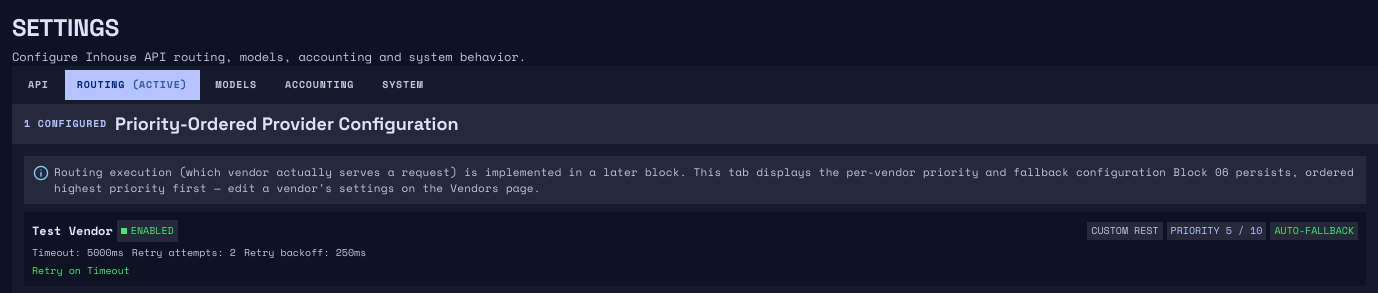
it: Settings — Models tab › displays models returned from the API
What coordinates should you click on to do the following:
click the button "Models"
I would click on:
 (236, 85)
Its box is x1=204 y1=70 x2=269 y2=100.
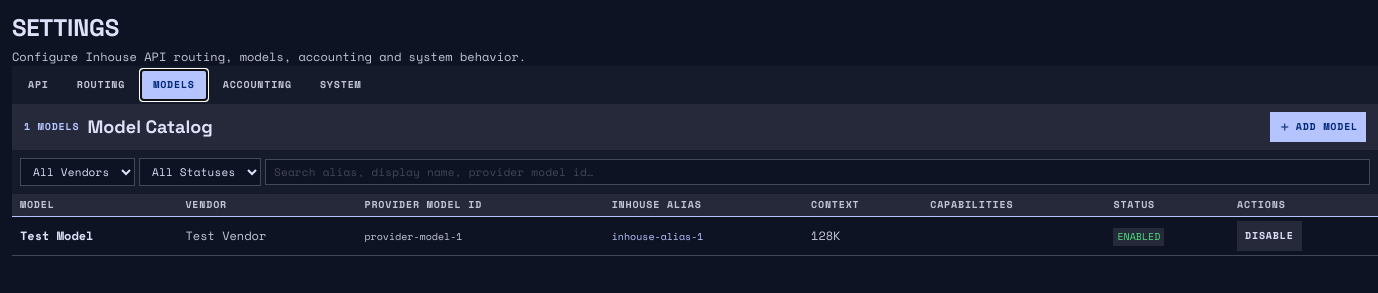
Check: the text "Test Model" is shown, box x1=20 y1=227 x2=94 y2=244
Check: the text "provider-model-1" is shown, box x1=364 y1=229 x2=462 y2=244
Check: the text "inhouse-alias-1" is shown, box x1=612 y1=229 x2=704 y2=244
